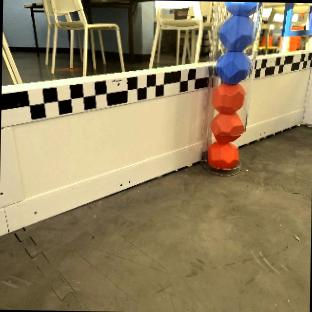V5_BLUE: (219, 1, 254, 49), (215, 50, 247, 82)
V5_RED: (212, 81, 243, 111), (210, 110, 242, 138), (208, 141, 237, 168)
